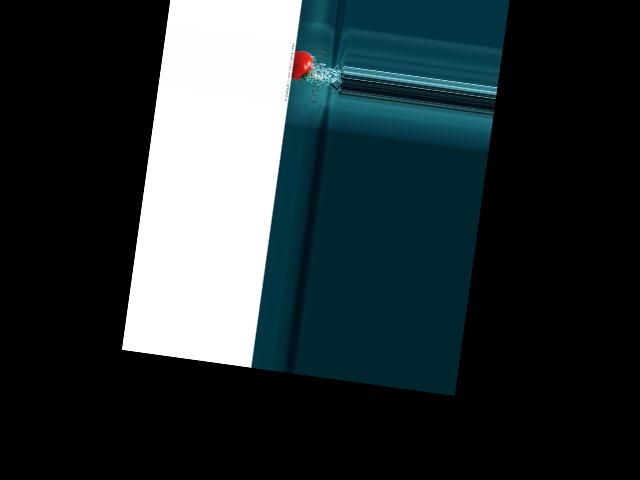tomato: (290, 50, 314, 82)
